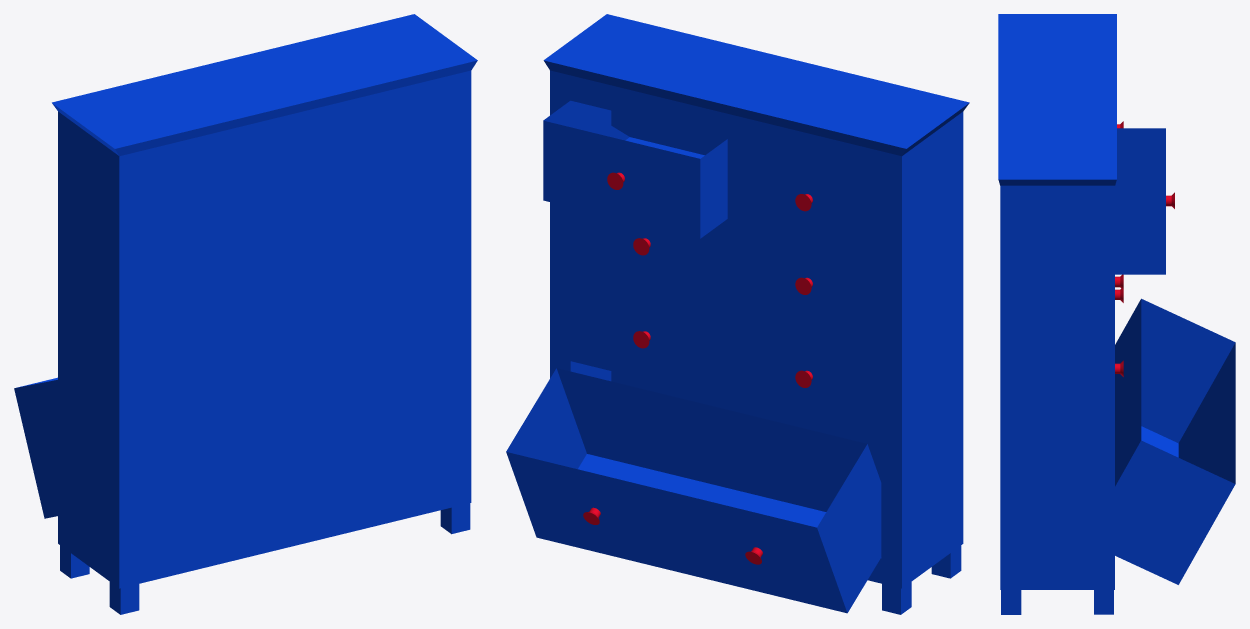
The model's file is Messy_Chest_Of_Drawers.fbx.
The picture shows the model from 3 angles, left to right: view 1: azimuth 30°, elevation 25°; view 2: azimuth 150°, elevation 25°; view 3: azimuth 270°, elevation 25°; orthographic projection. The views are drawn at different scales.
Parts seen in each view (by area): view 1: Cube.001; view 2: Cube.001; view 3: Cube.001.
Boxes of the visible parts, x1,y1,x2,y2 form: Cube.001: [14, 14, 477, 614]; Cube.001: [506, 14, 969, 614]; Cube.001: [998, 14, 1235, 614].
Size of the model in its own units: 742 by 916 by 449.
